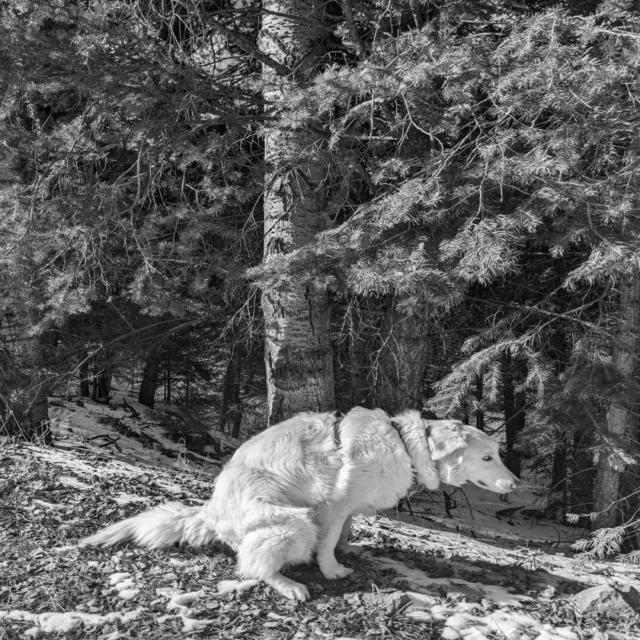squatting: (97, 399, 529, 606)
